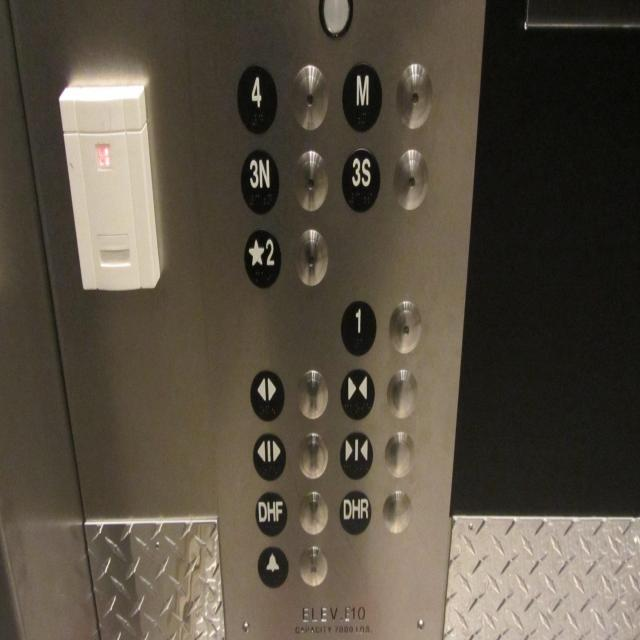1: (339, 296, 377, 358)
3N: (239, 146, 280, 216)
3S: (341, 145, 382, 215)
4: (234, 61, 278, 135)
DHF: (254, 487, 288, 538)
DHR: (338, 486, 372, 537)
M: (339, 59, 384, 133)
alarm: (256, 540, 290, 592)
close: (338, 363, 376, 423), (338, 427, 374, 481)
empty: (287, 62, 329, 133), (395, 60, 433, 131), (290, 147, 330, 214), (293, 224, 330, 289), (393, 147, 430, 212), (295, 366, 329, 421), (388, 299, 421, 354), (296, 429, 330, 481), (298, 488, 330, 536), (298, 542, 330, 590), (380, 489, 412, 536), (384, 431, 416, 478), (386, 368, 418, 415)
open: (251, 429, 287, 483), (249, 368, 285, 422)
s2: (241, 224, 284, 292)
